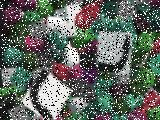Left: (21, 67, 72, 120), (96, 31, 132, 75)
